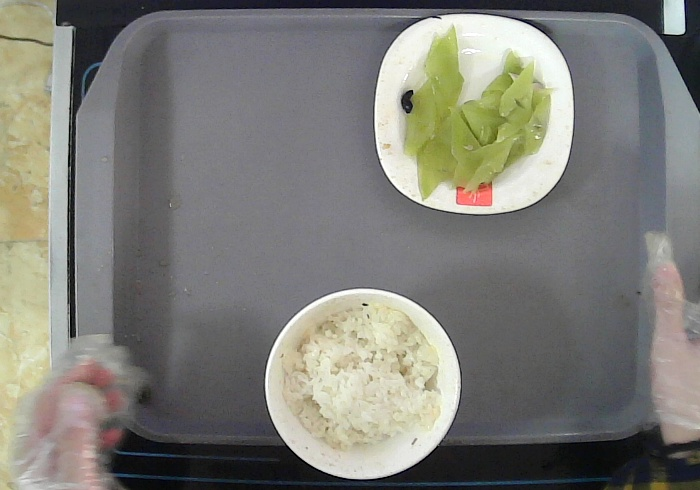SHKJ-Bai_Se_Si_Fang_Cai_Die: (373, 14, 575, 214)
SHKJ-Fan_Wan: (264, 289, 462, 479)
